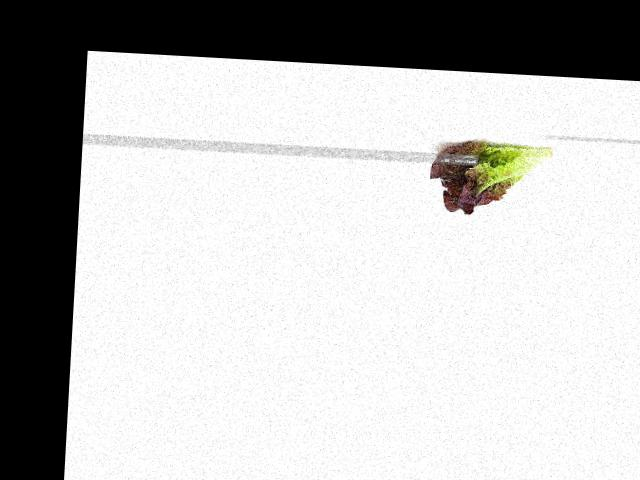lettuce: (425, 132, 558, 220)
